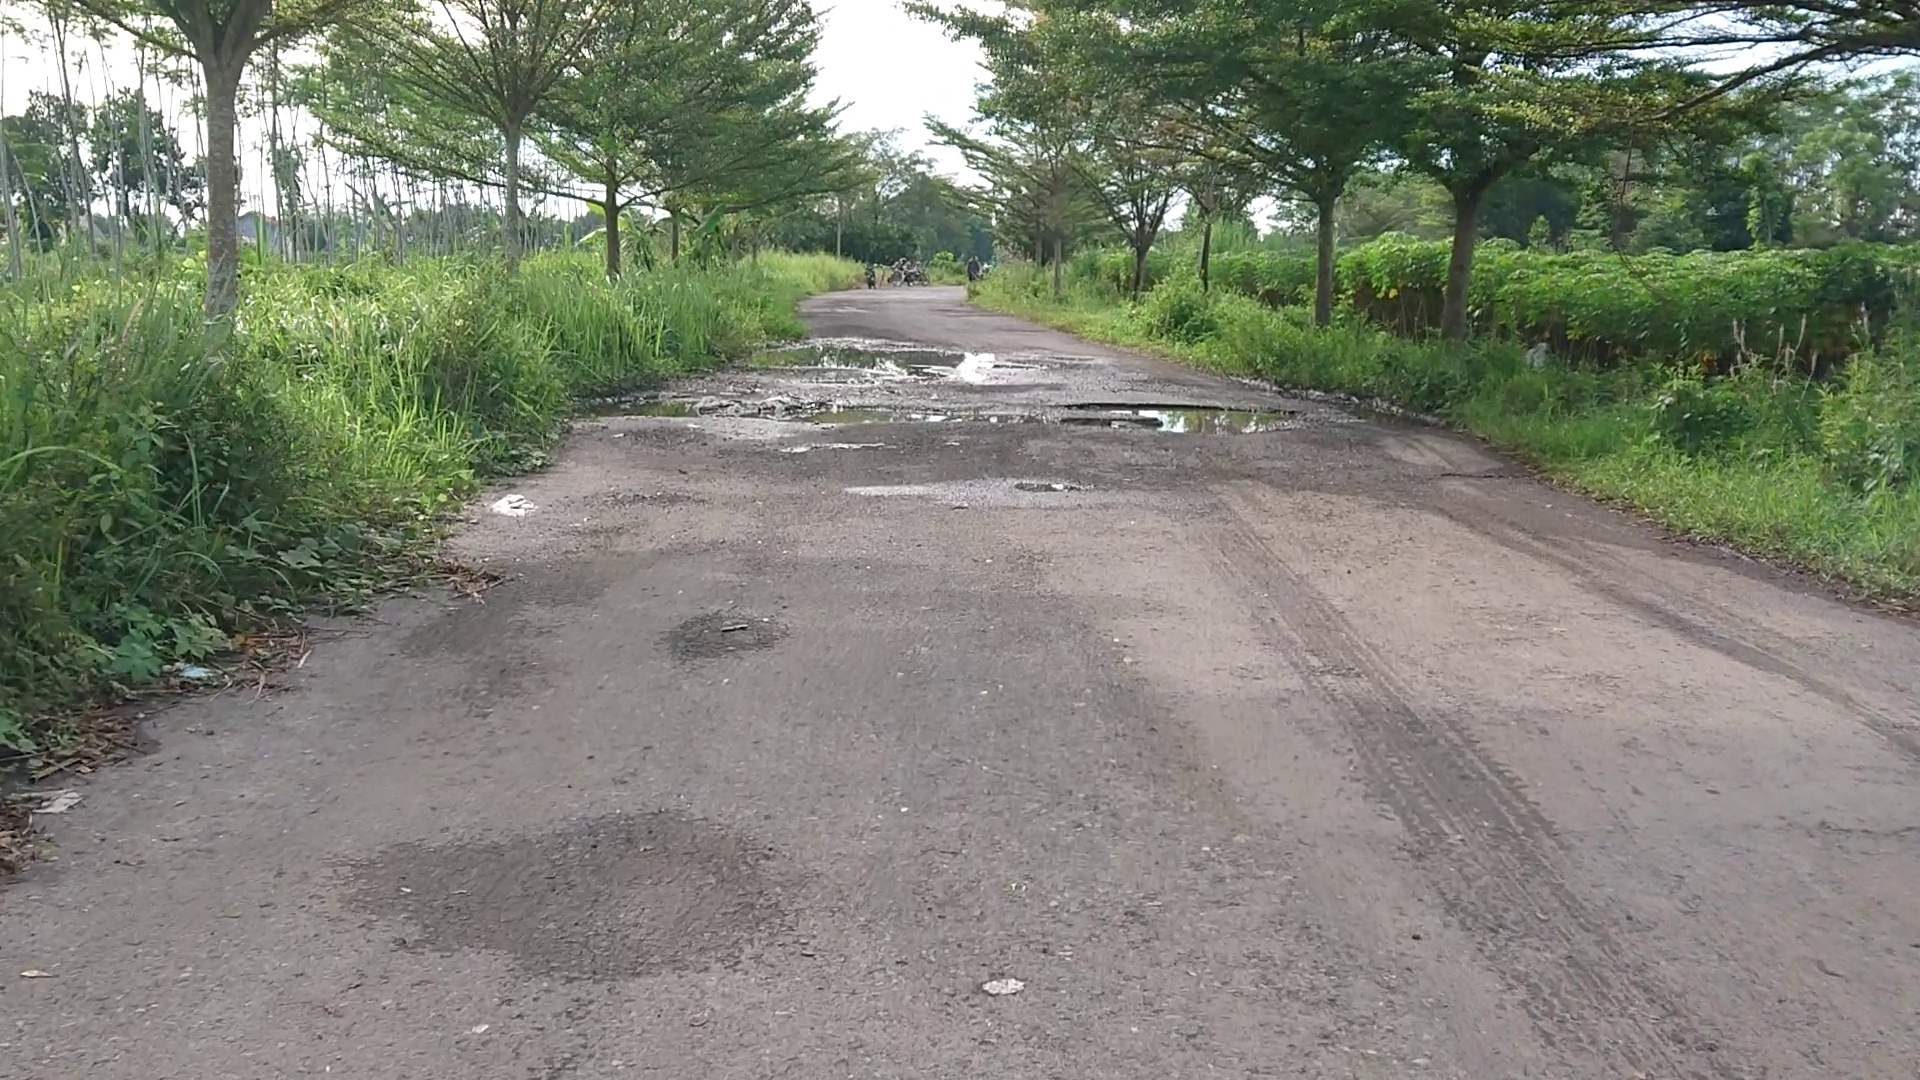Berlubang: (762, 326, 1021, 394), (1033, 382, 1308, 439), (761, 390, 1021, 431)
